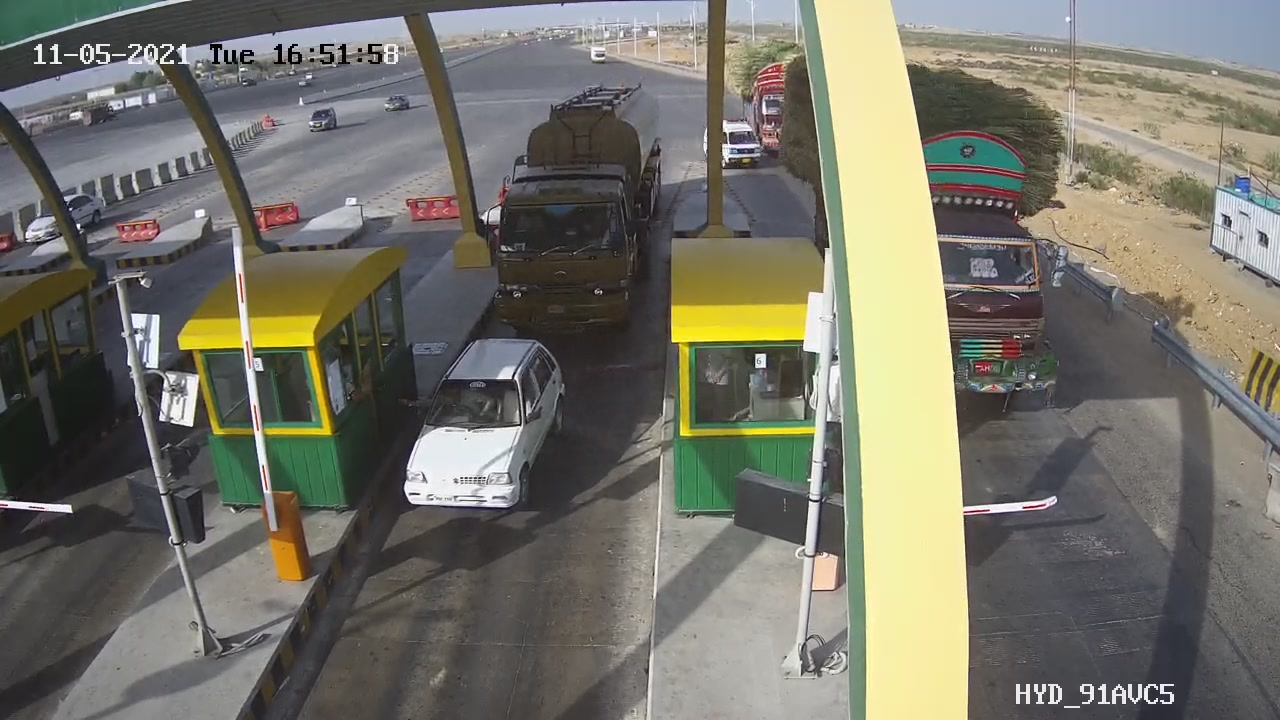F1: (371, 320, 596, 529)
F6: (484, 69, 678, 344)
